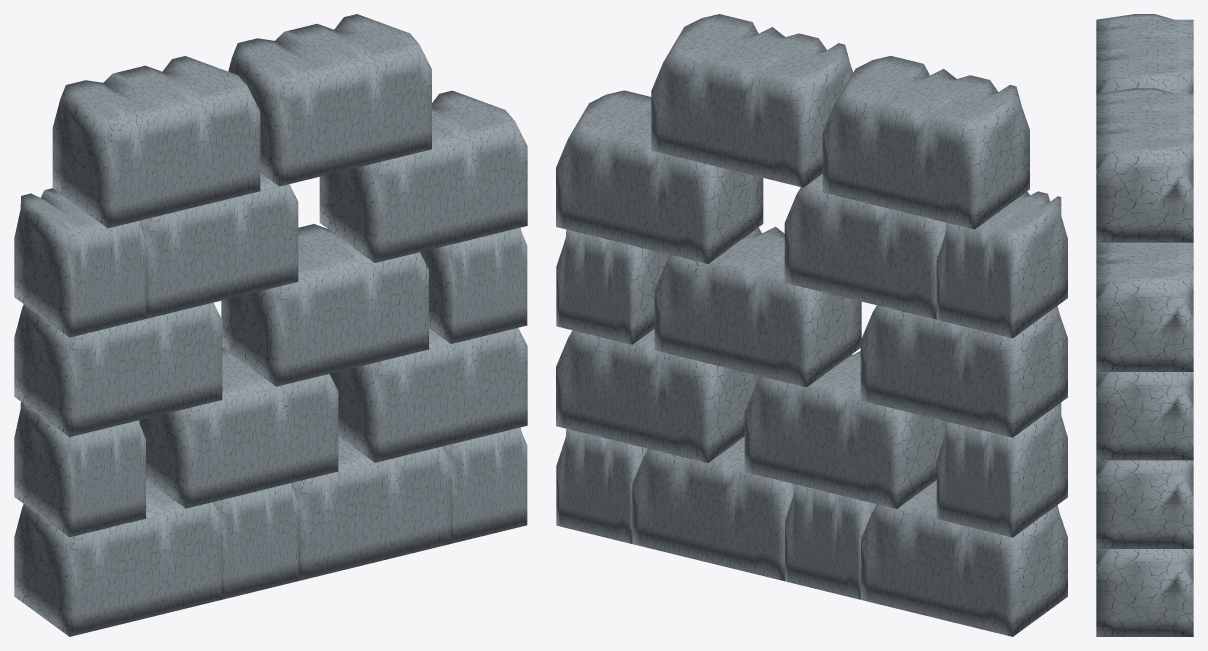
Rendered from wall.obj.
3 views of the same model, side by side, from view 1: azimuth 30°, elevation 25°; view 2: azimuth 150°, elevation 25°; view 3: azimuth 270°, elevation 25° (orthographic). The views are drawn at different scales.
Visible parts, largest first — view 1: Box015, Box016, Box013, Box010, Box001, Box014, Box006, Box007, Box004, Box012, Box011, Box005 (+3 smaller); view 2: Box015, Box016, Box013, Box010, Box001, Box014, Box006, Box007, Box004, Box012, Box011, Box005 (+3 smaller); view 3: Box016, Box013, Box007, Box009, Box003, Box015.
Part boxes in pixels (box(x1,y1,x2,y2)): Box015: box(52, 56, 260, 228); Box016: box(228, 14, 431, 186); Box013: box(319, 90, 527, 262); Box010: box(221, 224, 428, 386); Box001: box(14, 480, 222, 636); Box014: box(14, 302, 222, 437); Box006: box(139, 347, 338, 508); Box007: box(330, 328, 527, 462); Box004: box(291, 436, 451, 580); Box012: box(139, 173, 298, 318); Box011: box(14, 188, 145, 337); Box005: box(14, 402, 145, 537); Box015: box(822, 56, 1029, 229); Box016: box(651, 14, 853, 187); Box013: box(556, 90, 763, 263); Box010: box(654, 226, 861, 387); Box001: box(860, 480, 1067, 636); Box014: box(860, 305, 1067, 437); Box006: box(744, 351, 946, 508); Box007: box(556, 329, 760, 462); Box004: box(632, 437, 794, 581); Box012: box(784, 174, 946, 319); Box011: box(936, 191, 1067, 338); Box005: box(936, 402, 1067, 537); Box016: box(1096, 88, 1193, 242); Box013: box(1096, 242, 1193, 371); Box007: box(1096, 460, 1193, 548); Box009: box(1096, 372, 1193, 460); Box003: box(1096, 549, 1193, 636); Box015: box(1096, 14, 1193, 93).
Size of the model in its own units: 2399 by 2498 by 500.
1 material, 1 textured.
